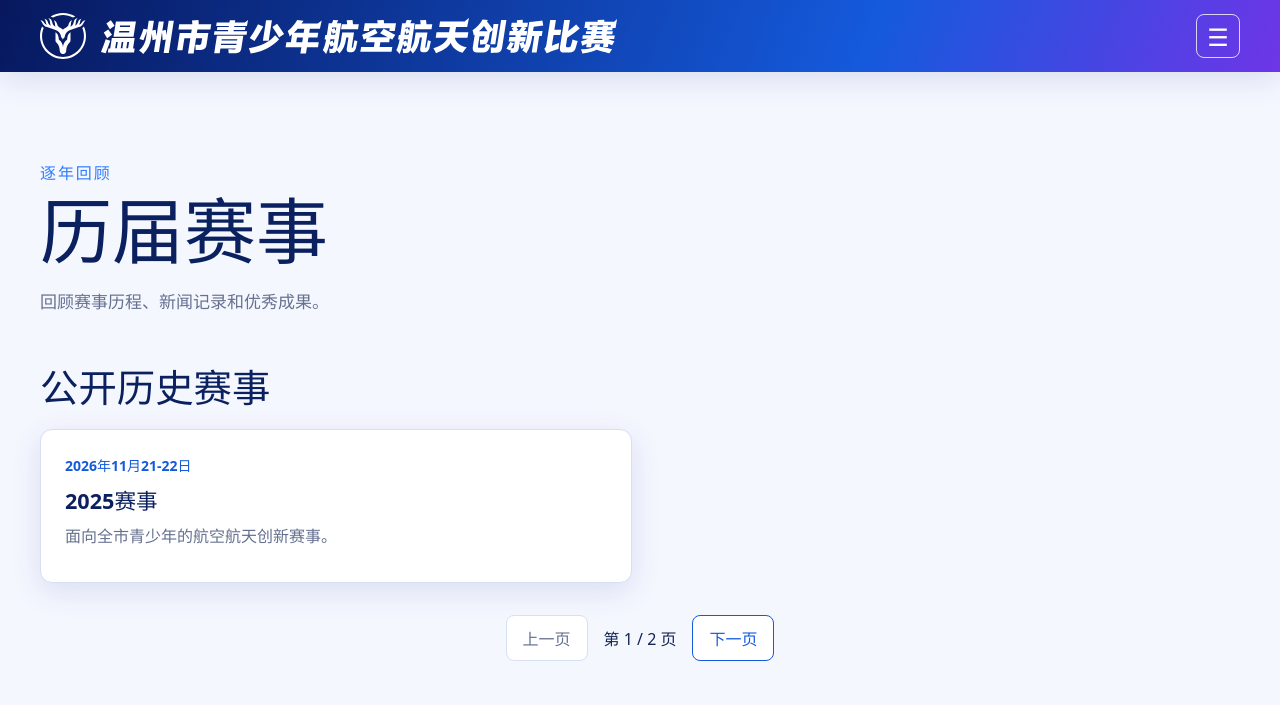
Test: public content lists › paginates historical events without changing the recap page
Expected: the link "2025赛事" is shown, [65,486,158,514]
Click the button with aria-label "下一页历史赛事" at [734, 638], box [692,615,774,661]
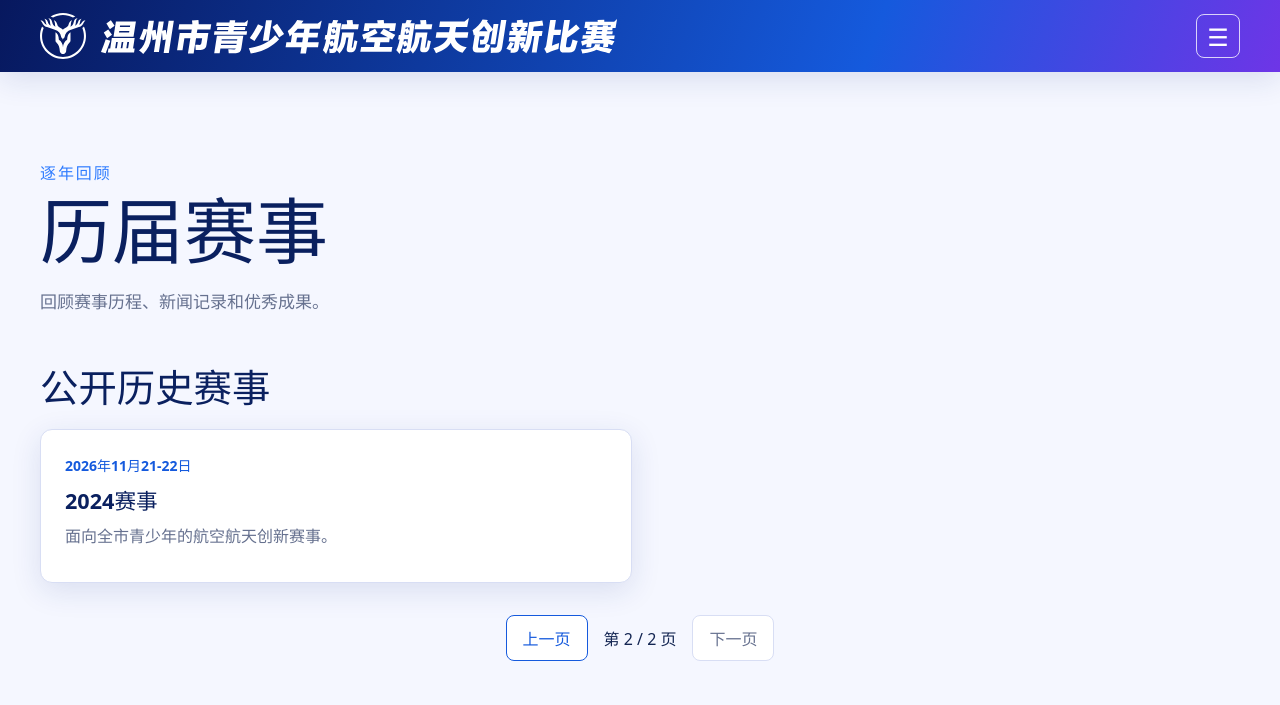
Result: the link "2024赛事" is shown at [65,486,158,514]
